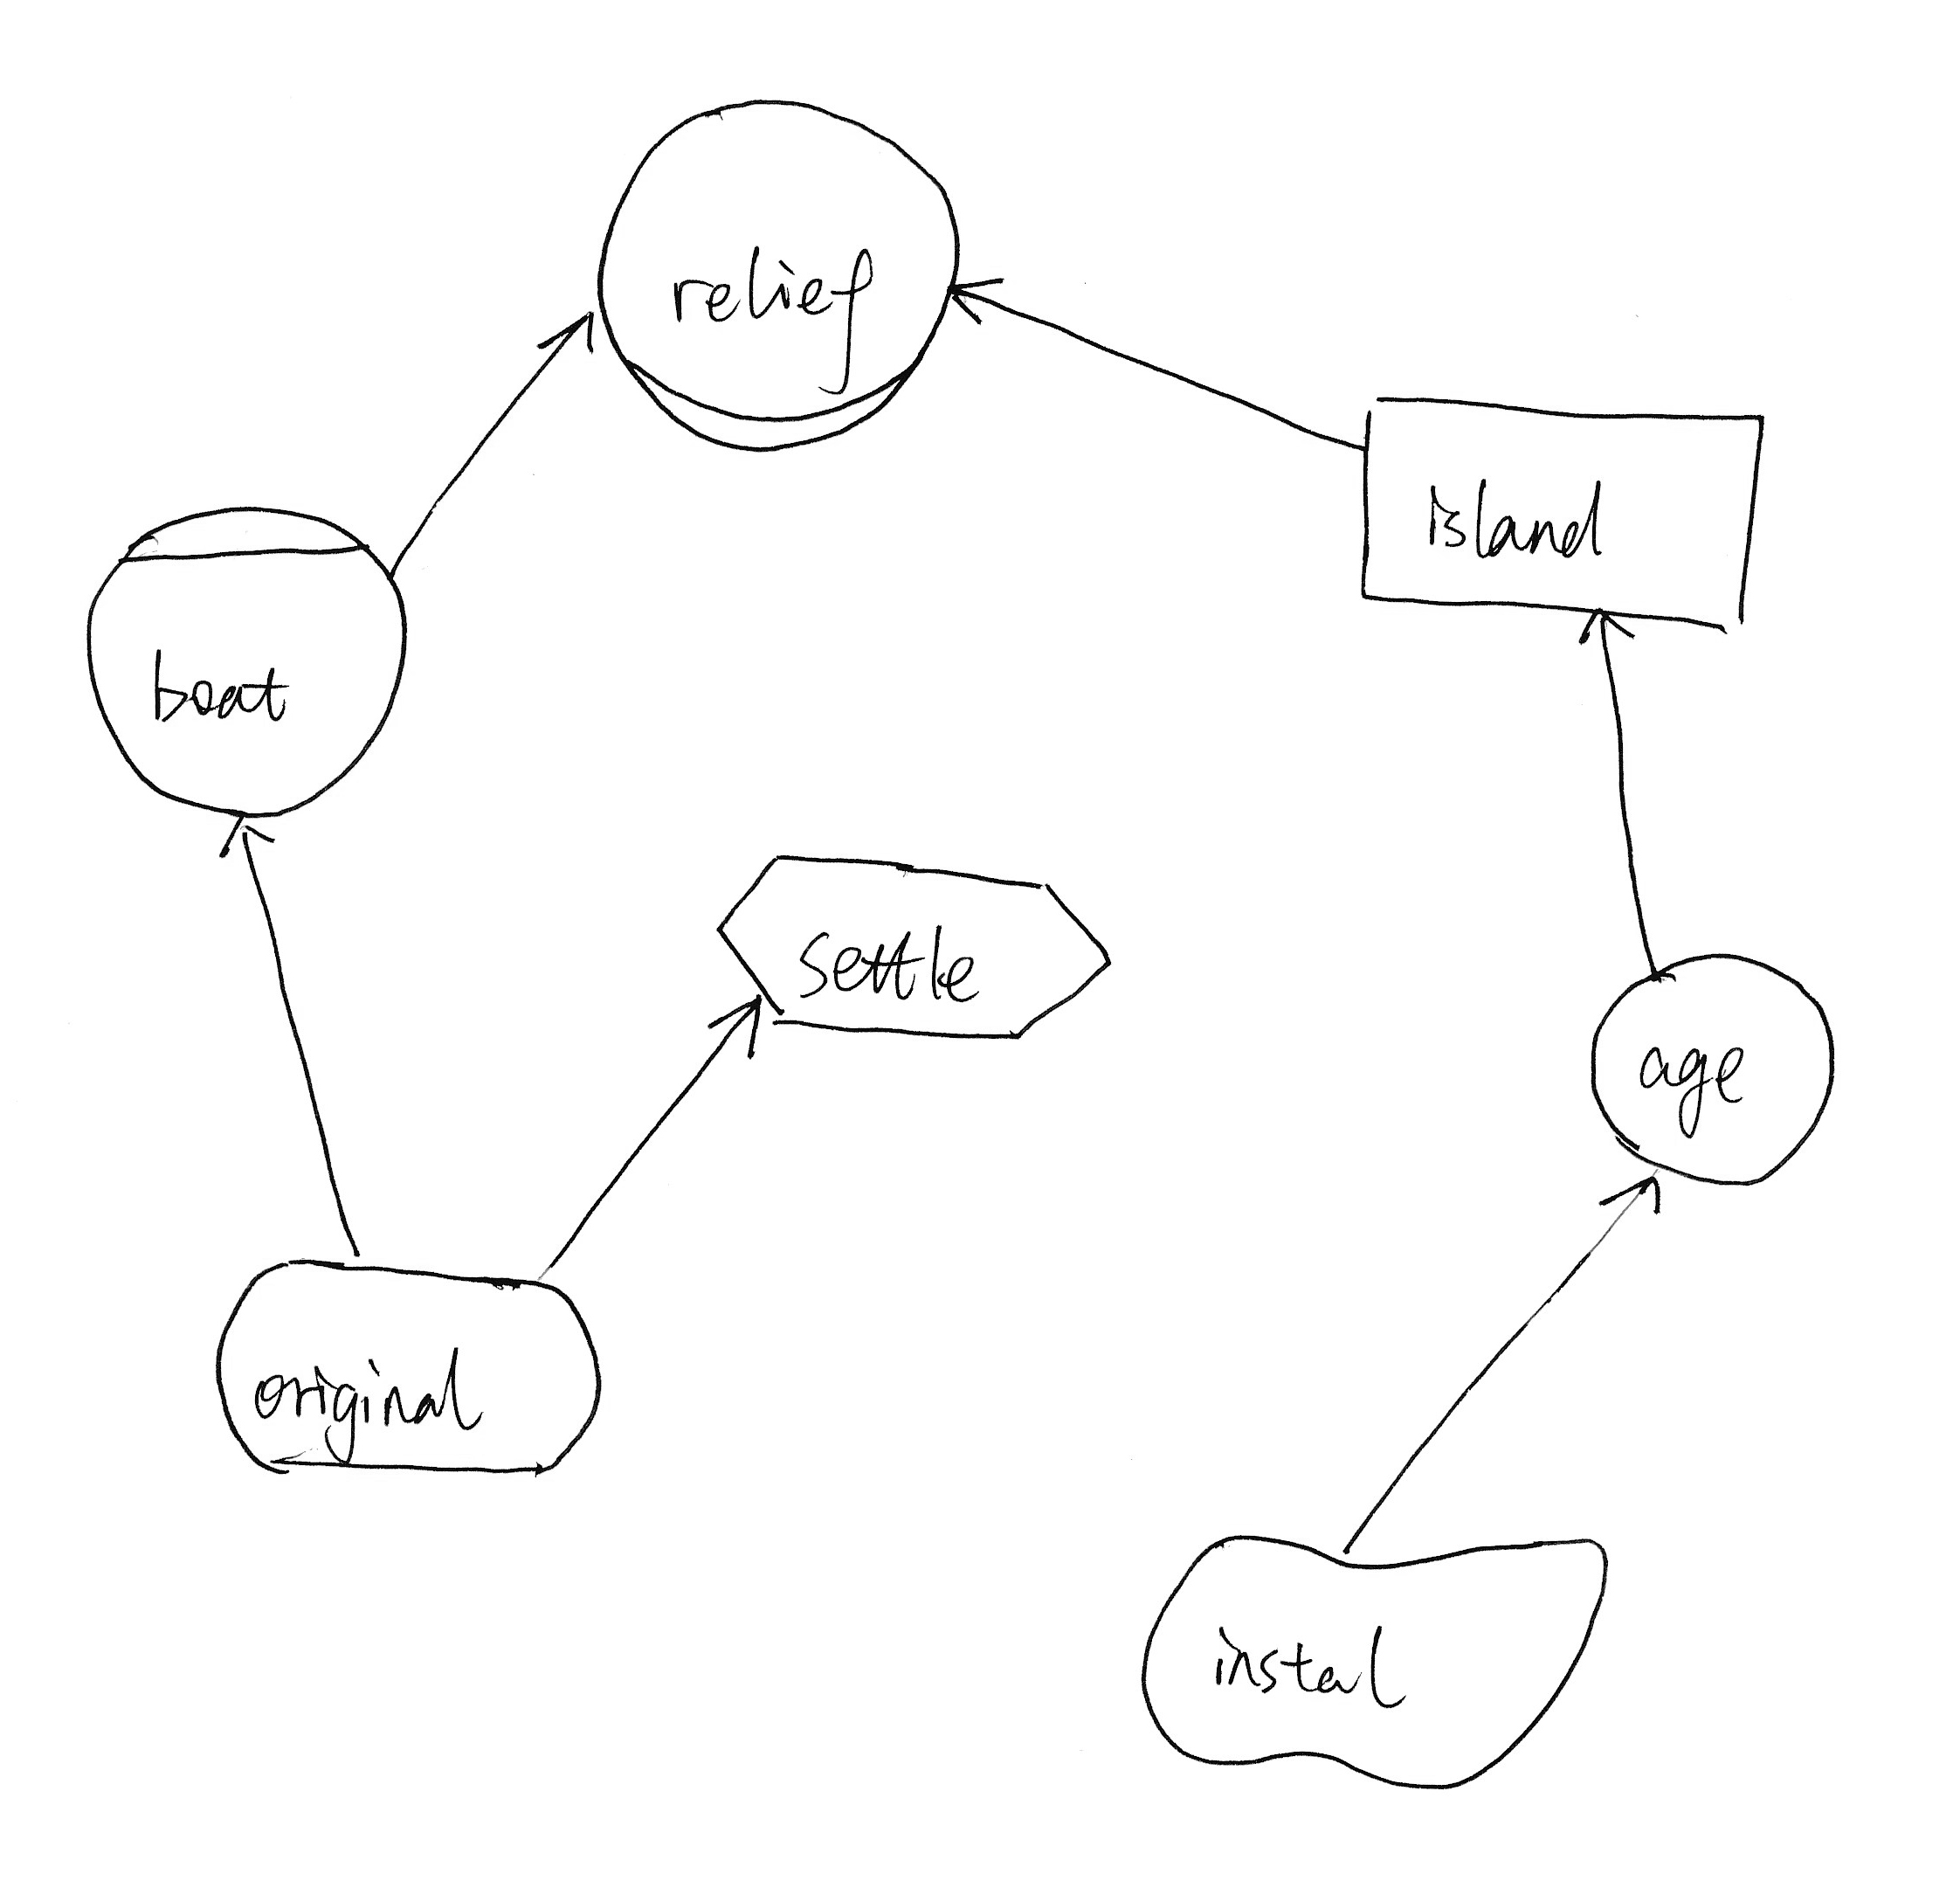actor: (1573, 933, 1850, 1207)
agent: (66, 490, 430, 835)
arrow: (518, 283, 604, 376), (1577, 1164, 1680, 1237), (696, 985, 770, 1074), (941, 262, 1020, 339), (206, 805, 283, 864), (1564, 605, 1640, 661)
goal: (191, 1239, 619, 1505)
quality: (1123, 1514, 1627, 1806)
resource: (1337, 374, 1787, 653)
role: (569, 82, 975, 465)
task: (700, 836, 1122, 1064)
